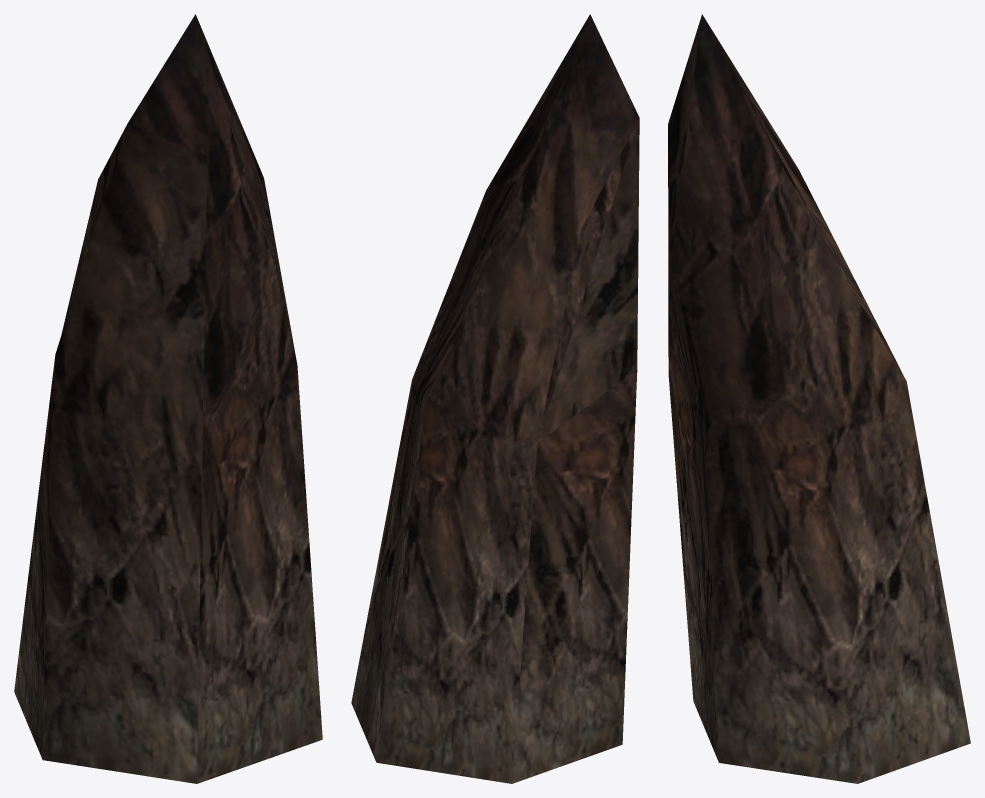
Rendered from burningsteppesboulders03.glb.
The picture shows the model from 3 angles, left to right: view 1: azimuth 30°, elevation 25°; view 2: azimuth 150°, elevation 25°; view 3: azimuth 270°, elevation 25°; orthographic projection. The views are drawn at different scales.
Bounding box in the file's own units: 2.06 × 5.35 × 2.13.
1 material, 1 textured.
